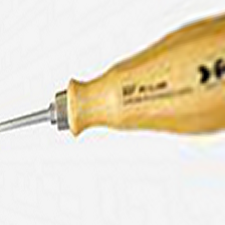screwdriver: (1, 14, 225, 151)
